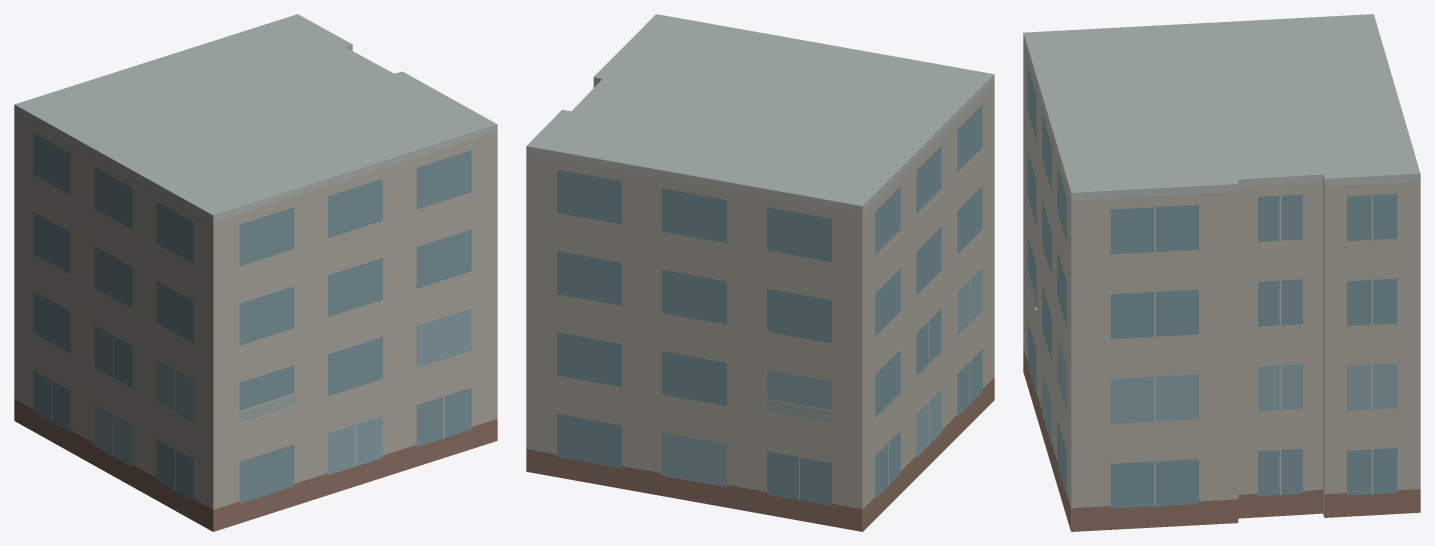
The model's file is survey-upis-32530962.glb.
3 renders of one model, left to right at view 1: azimuth 30°, elevation 25°; view 2: azimuth 150°, elevation 25°; view 3: azimuth 270°, elevation 25°, orthographic. The views are drawn at different scales.
Visible parts, largest first — view 1: survey-upis-32530962.tmp; view 2: survey-upis-32530962.tmp; view 3: survey-upis-32530962.tmp.
Boxes of the visible parts, bbox=[...] form: survey-upis-32530962.tmp: bbox=[14, 14, 497, 531]; survey-upis-32530962.tmp: bbox=[526, 14, 994, 531]; survey-upis-32530962.tmp: bbox=[1023, 14, 1420, 531].
Size of the model in its own units: 12 by 10.6 by 11.26.
